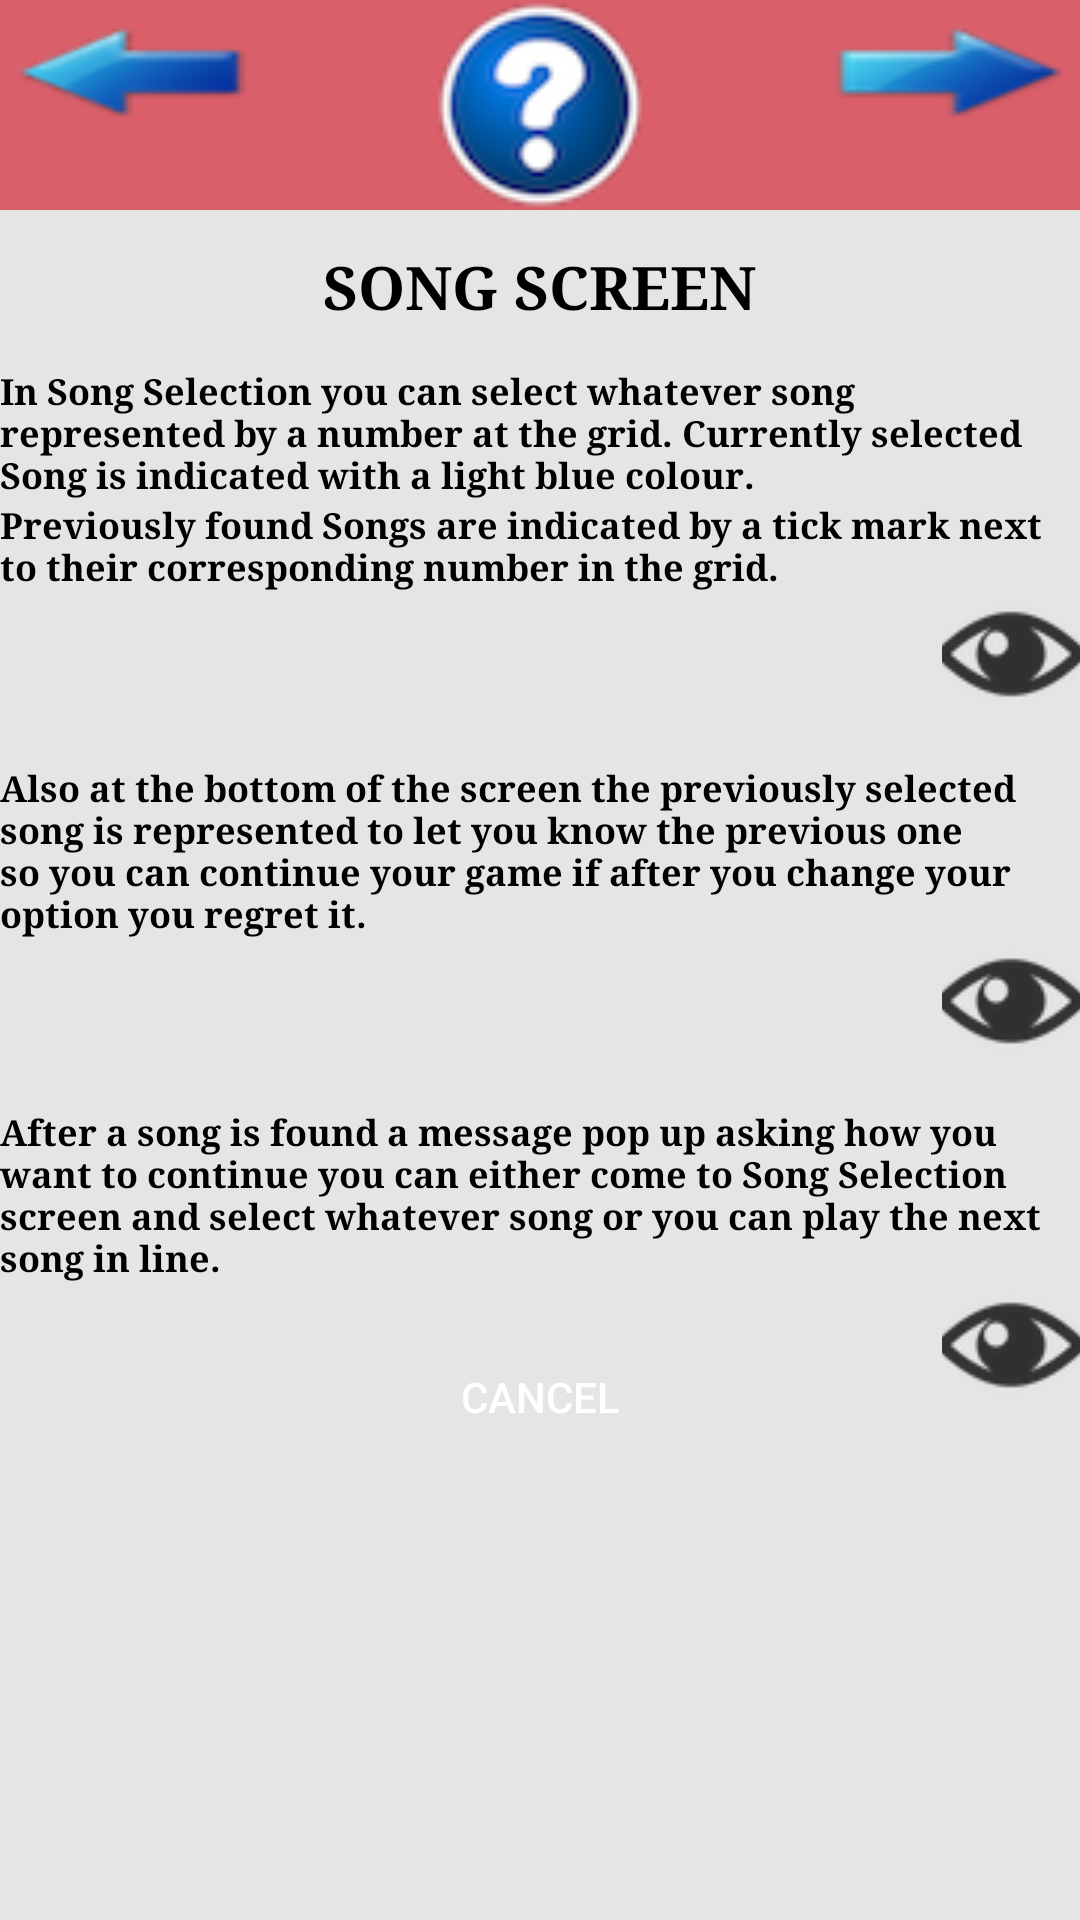

Named icons in this screenshot (1080px x 1920px) and their bounding boxes, (x1, y1, x2, y2):
eye: (942, 611, 1080, 697), (942, 958, 1080, 1044), (942, 1302, 1080, 1388)
